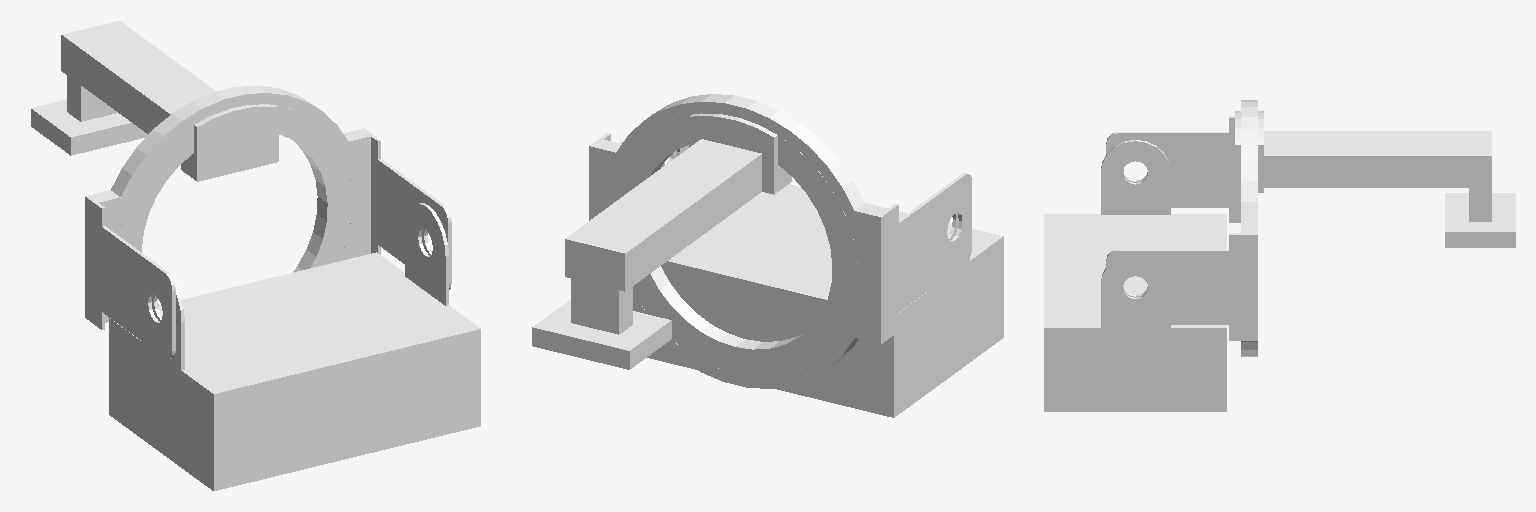
URDF robot description (haptic_device_model):
<?xml version="1.0" encoding="utf-8"?>
<!-- This URDF was automatically created by SolidWorks to URDF Exporter! Originally created by [author] ([email redacted]) 
     Commit Version: 1.6.0-4-g7f85cfe  Build Version: 1.6.7995.38578
     For more information, please see http://wiki.ros.org/sw_urdf_exporter -->
<robot
  name="haptic_device_model">
  <link name="world"/>
  <!-- BASE LINK -->
  <link
    name="base_link">
    <inertial>
      <origin
        xyz="-2.16840434497101E-18 -1.08653387720525E-18 -0.0394930512413517"
        rpy="0 0 0" />
      <mass
        value="2.89599350389818" />
      <inertia
        ixx="0.0074821"
        ixy="0.000000"
        ixz="0.000000"
        iyy="0.0146303"
        iyz="0.000000"
        izz="0.01882309" />
    </inertial>
    <visual>
      <origin
        xyz="0 0 0"
        rpy="0 0 0" />
      <geometry>
        <mesh
          filename="package://haptic_device_model/meshes/base_link.STL" />
      </geometry>
      <material
        name="">
        <color
          rgba="1 1 1 1" />
      </material>
    </visual>
    <collision>
      <origin
        xyz="0 0 0"
        rpy="0 0 0" />
      <geometry>
        <mesh
          filename="package://haptic_device_model/meshes/base_link.STL" />
      </geometry>
    </collision>
  </link>
  <joint name="fixed" type="fixed">
     <origin
      xyz="0 0 0.10"
      rpy="0 0 0" />
     <parent link="world"/>
     <child link="base_link"/>
  </joint>

  <!-- LINK 1 -->
  <link
    name="Link1">
    <inertial>
      <origin
        xyz="3.81639164714898E-17 -9.71445146547012E-17 0.0812452447641558"
        rpy="0 0 0" />
      <mass
        value="0.178941551187451" />
      <inertia
        ixx="0.0007524"
        ixy="0.000000"
        ixz="0.000000"
        iyy="0.00189805"
        iyz="0.000000"
        izz="0.00227463" />
    </inertial>
    <visual>
      <origin
        xyz="0 0 0"
        rpy="1.5707 0 3.1416" />
      <geometry>
        <mesh
          filename="package://haptic_device_model/meshes/Link1.STL" />
      </geometry>
      <material
        name="">
        <color
          rgba="1 1 1 1" />
      </material>
    </visual>
    <collision>
      <origin
        xyz="0 0 0"
        rpy="0 0 0" />
      <geometry>
        <mesh
          filename="package://haptic_device_model/meshes/Link1.STL" />
      </geometry>
    </collision>
  </link>
  <joint
    name="Jnt1"
    type="revolute">
    <origin
      xyz="0 0 0.04"
      rpy="0 0 0" />
    <parent
      link="base_link" />
    <child
      link="Link1" />
    <axis
      xyz="1 0 0" />
    <limit
      lower="0"
      upper="1.5708"
      effort="100"
      velocity="0.5" />
  </joint>

  <!-- LINK 2 -->
  <link
    name="Link2">
    <inertial>
      <origin
        xyz="-5.24753851482984E-17 -0.00781690704969398 0.0165307689111083"
        rpy="0 0 0" />
      <mass
        value="0.236662453777598" />
      <inertia
        ixx="0.00097295"
        ixy="0.000000"
        ixz="-0.00000011"
        iyy="0.00173668"
        iyz="0.00000364"
        izz="0.00077699" />
    </inertial>
    <visual>
      <origin
        xyz="0 0 0"
        rpy="0 0 0" />
      <geometry>
        <mesh
          filename="package://haptic_device_model/meshes/Link2.STL" />
      </geometry>
      <material
        name="">
        <color
          rgba="1 1 1 1" />
      </material>
    </visual>
    <collision>
      <origin
        xyz="0 0 0"
        rpy="0 0 0" />
      <geometry>
        <mesh
          filename="package://haptic_device_model/meshes/Link2.STL" />
      </geometry>
    </collision>
  </link>
  <joint
    name="Jnt2"
    type="revolute">
    <origin
      xyz="0 0.105 0"
      rpy="0 0 0" />
    <parent
      link="Link1" />
    <child
      link="Link2" />
    <axis
      xyz="0 1 0" />
    <limit
      lower="-1.5707"
      upper="3.1415"
      effort="100"
      velocity="0.5" />
  </joint>

  <!-- END EFFECTOR -->
  <link
    name="EndEff">
    <inertial>
      <origin
        xyz="1.47451495458029E-17 -0.0675000000000001 0.052375"
        rpy="0 0 0" />
      <mass
        value="0.4" />
      <inertia
        ixx="0.00186061"
        ixy="0.000000"
        ixz="0.000000"
        iyy="0.00033521"
        iyz="0.00034087"
        izz="0.00173467" />
    </inertial>
    <visual>
      <origin
        xyz="0 0 0"
        rpy="0 0 0" />
      <geometry>
        <mesh
          filename="package://haptic_device_model/meshes/EndEff.STL" />
      </geometry>
      <material
        name="">
        <color
          rgba="1 1 1 1" />
      </material>
    </visual>
    <collision>
      <origin
        xyz="0 0 0"
        rpy="0 0 0" />
      <geometry>
        <mesh
          filename="package://haptic_device_model/meshes/EndEff.STL" />
      </geometry>
    </collision>
  </link>
  <joint
    name="JntEnd"
    type="fixed">
    <origin
      xyz="0 0.19 0"
      rpy="0 0 0" />
    <parent
      link="Link2" />
    <child
      link="EndEff" />
    <axis
      xyz="0 0 0" />
  </joint>

  <!-- This block connects the Jnt1 joint to an actuator (motor), which informs both
  simulation and visualization of the robot -->
  <transmission name="Jnt1_trans">
    <type>transmission_interface/SimpleTransmission</type>
    <actuator name="$Jnt1_motor">
      <mechanicalReduction>1</mechanicalReduction>
    </actuator>
    <joint name="Jnt1">
      <hardwareInterface>hardware_interface/EffortJointInterface</hardwareInterface>
    </joint>
  </transmission>
  
  <transmission name="Jnt2_trans">
    <type>transmission_interface/SimpleTransmission</type>
    <actuator name="$Jnt2_motor">
      <mechanicalReduction>1</mechanicalReduction>
    </actuator>
    <joint name="Jnt2">
      <hardwareInterface>hardware_interface/EffortJointInterface</hardwareInterface>
    </joint>
  </transmission>
  
  <!-- Gazebo plugin for ROS Control -->
  <gazebo>
    <plugin name="gazebo_ros_control" filename="libgazebo_ros_control.so">
      <robotNamespace>/</robotNamespace>
    </plugin>
  </gazebo>
  
</robot>

--- Render facts (derived) ---
Views: 3 orthographic renders of the robot side by side, from view 1: azimuth 30°, elevation 25°; view 2: azimuth 150°, elevation 25°; view 3: azimuth 270°, elevation 25°.
Model haptic_device_model with 5 links and 4 joints (2 revolute, 2 fixed), rooted at world, posed every joint at zero.
Visible links, largest first — view 1: base_link, Link1, Link2, EndEff; view 2: base_link, EndEff, Link1, Link2; view 3: base_link, Link1, EndEff, Link2.
Boxes of the visible links, x1=… form: base_link: x1=109, y1=203, x2=480, y2=490; Link1: x1=85, y1=86, x2=451, y2=358; Link2: x1=120, y1=104, x2=351, y2=305; EndEff: x1=31, y1=21, x2=216, y2=155; base_link: x1=647, y1=145, x2=1003, y2=417; EndEff: x1=532, y1=139, x2=761, y2=369; Link1: x1=589, y1=94, x2=971, y2=388; Link2: x1=613, y1=113, x2=857, y2=376; base_link: x1=1044, y1=140, x2=1226, y2=411; Link1: x1=1106, y1=100, x2=1257, y2=356; EndEff: x1=1264, y1=131, x2=1515, y2=247; Link2: x1=1235, y1=111, x2=1263, y2=192.
Bounding box of the posed robot: 0.2404 × 0.403 × 0.2298 m (x, y, z).
4 mesh visuals loaded from 4 distinct referenced files (4 binary STL).
